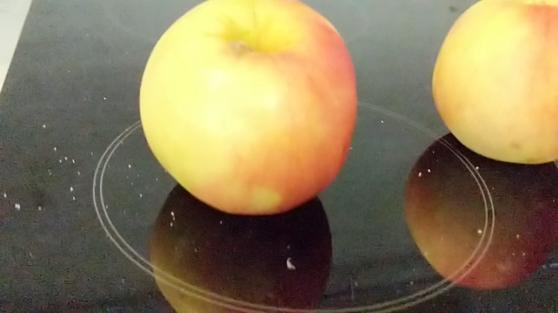apple: (137, 1, 357, 216), (429, 1, 558, 165)
